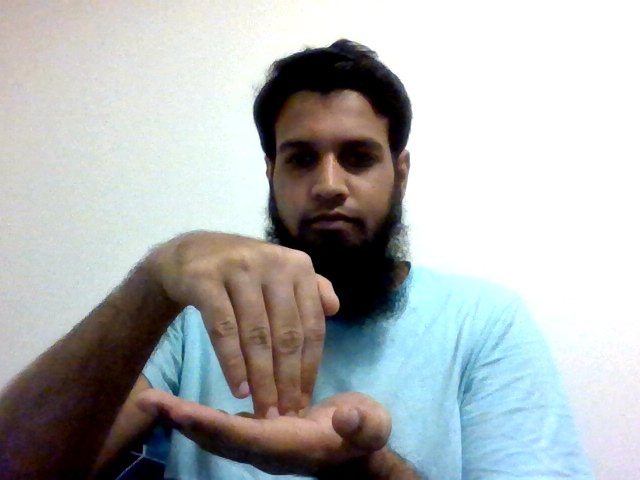again: (132, 229, 394, 473)
